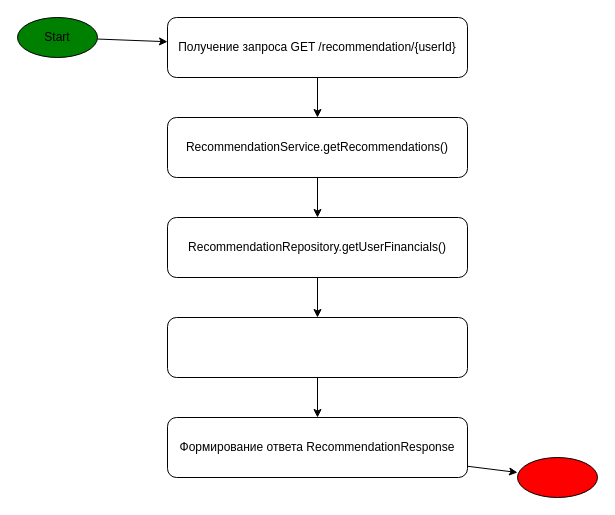
Some shapes in this 615 by 515 pixel diagram are drawn without their labels. Each missing label, with the centre of its shape:
"End" goes at point (557, 477).
"Применение набора правил (RuleSet)" goes at point (317, 347).
